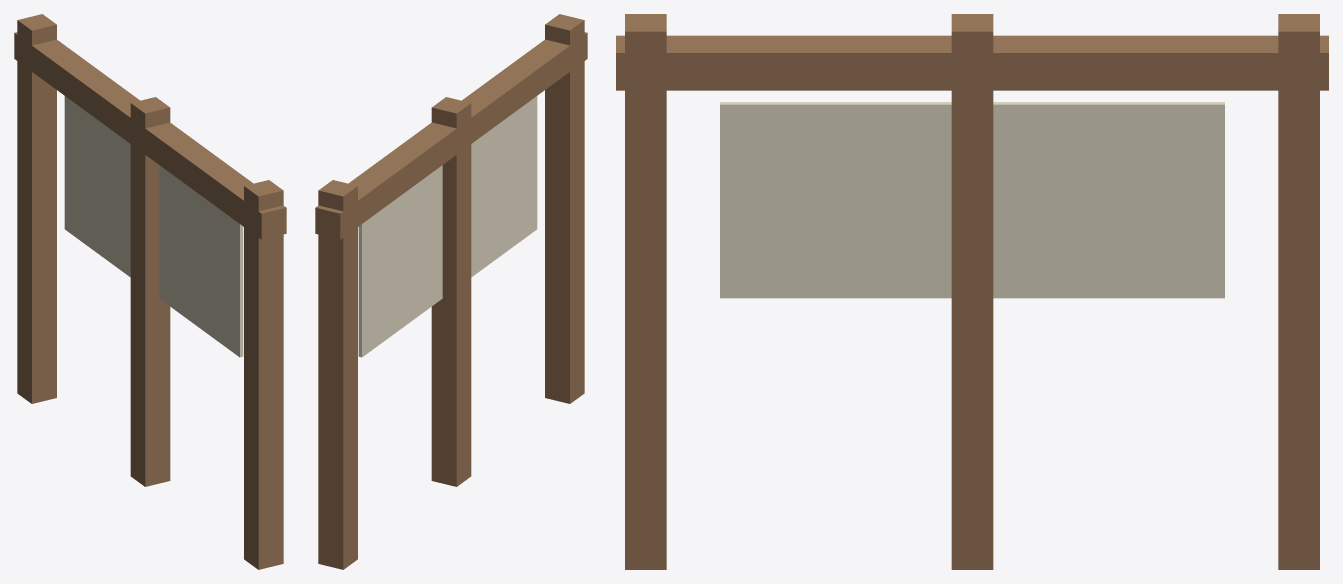
The model's file is clothesline_ragged.glb.
3 renders of one model, left to right at view 1: azimuth 30°, elevation 25°; view 2: azimuth 150°, elevation 25°; view 3: azimuth 270°, elevation 25°, orthographic. The views are drawn at different scales.
Visible parts, largest first — view 1: clothesline_ragged; view 2: clothesline_ragged; view 3: clothesline_ragged.
Part boxes in pixels (box(x1,y1,x2,y2)): clothesline_ragged: box(14, 14, 286, 569); clothesline_ragged: box(315, 14, 587, 569); clothesline_ragged: box(616, 14, 1328, 569).
Bounding box in the file's own units: 0.14 × 2 × 2.4.
